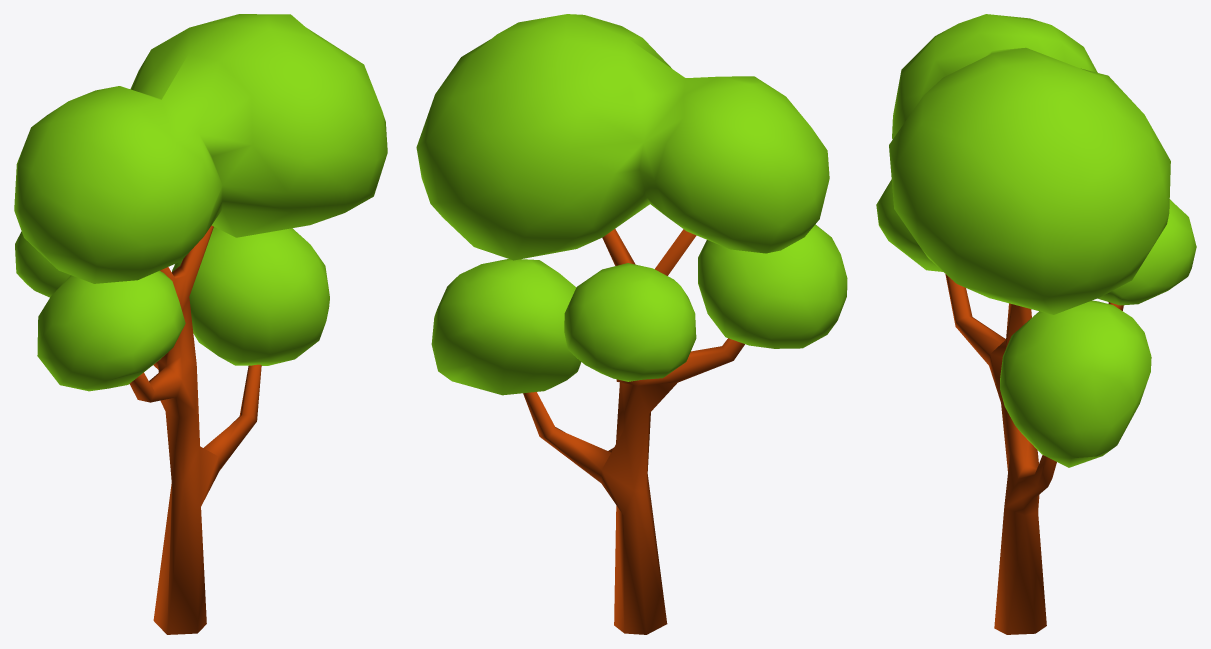
The model's file is Tree004.fbx.
3 renders of one model, left to right at view 1: azimuth 30°, elevation 25°; view 2: azimuth 150°, elevation 25°; view 3: azimuth 270°, elevation 25°, orthographic. The views are drawn at different scales.
Visible parts, largest first — view 1: tree.002; view 2: tree.002; view 3: tree.002.
Part boxes in pixels (box(x1,y1,x2,y2)): tree.002: box(14, 14, 387, 634); tree.002: box(416, 14, 847, 634); tree.002: box(876, 14, 1196, 634).
Size of the model in its own units: 336 by 509 by 246.
Materials: 1 (1 with a texture image).
